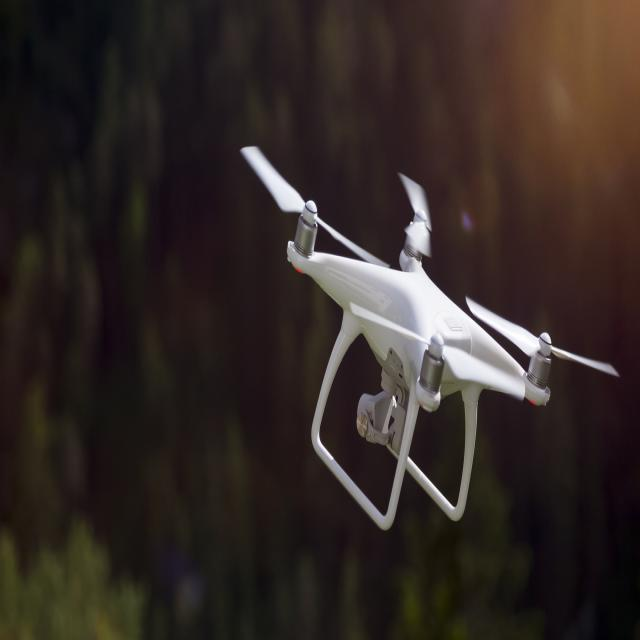drone: (225, 118, 579, 513)
